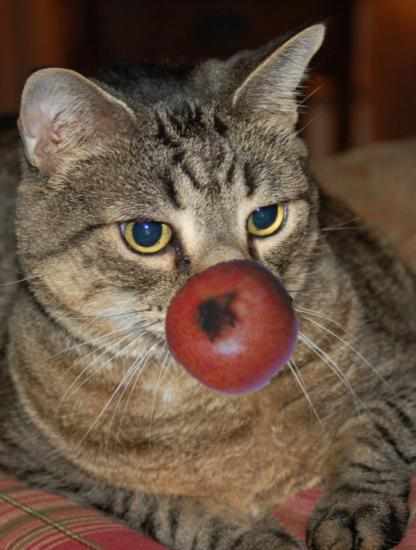Pomegranate: (167, 262, 300, 395)
